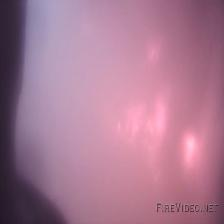nofire: (103, 43, 219, 185)
